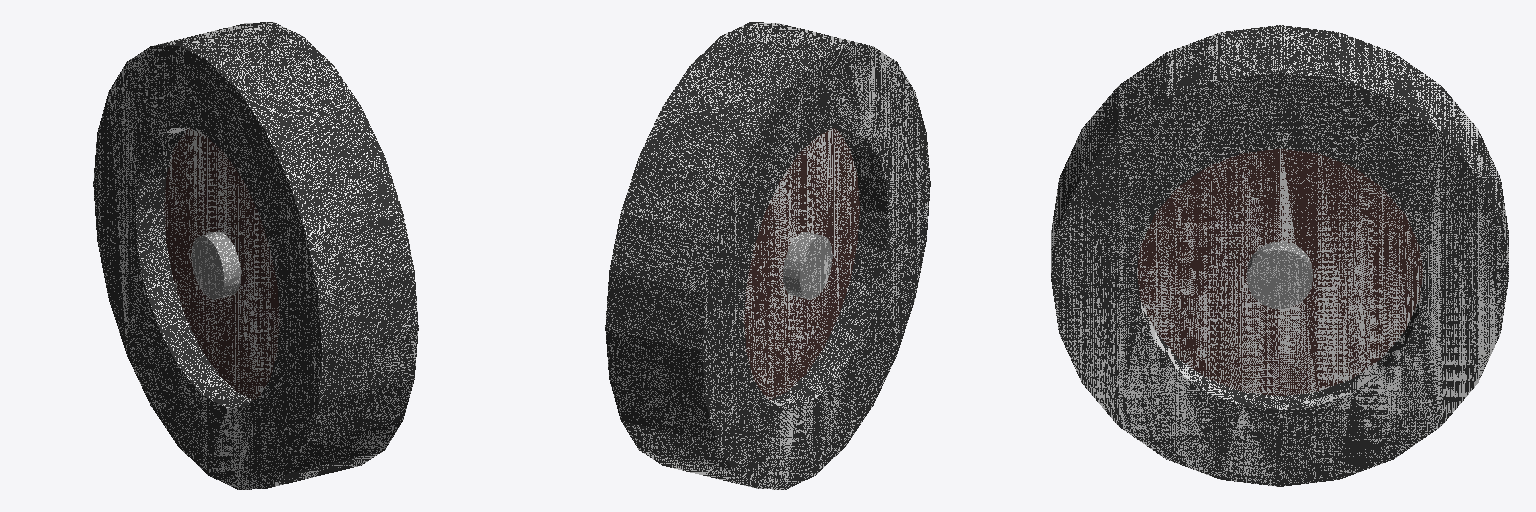
The model's file is 4x4Wheel.obj.
3 renders of one model, left to right at view 1: azimuth 30°, elevation 25°; view 2: azimuth 150°, elevation 25°; view 3: azimuth 270°, elevation 25°, orthographic.
Visible parts, largest first — view 1: Mesh1 Model polySurface1, Mesh3 Model polySurface1; view 2: Mesh1 Model polySurface1, Mesh3 Model polySurface1; view 3: Mesh1 Model polySurface1, Mesh2 Model polySurface1.
Boxes of the visible parts, box(x1,y1,x2,y2) form: Mesh1 Model polySurface1: box(93, 22, 418, 489); Mesh3 Model polySurface1: box(191, 232, 240, 299); Mesh1 Model polySurface1: box(605, 22, 930, 489); Mesh3 Model polySurface1: box(783, 232, 832, 299); Mesh1 Model polySurface1: box(1051, 25, 1508, 486); Mesh2 Model polySurface1: box(1247, 242, 1312, 308).
Size of the model in its own units: 0.17 by 0.6976 by 0.6976.